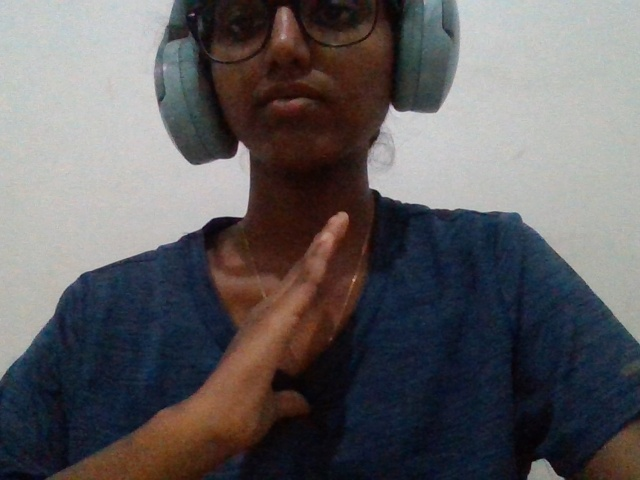Fine: (117, 167, 411, 465)
